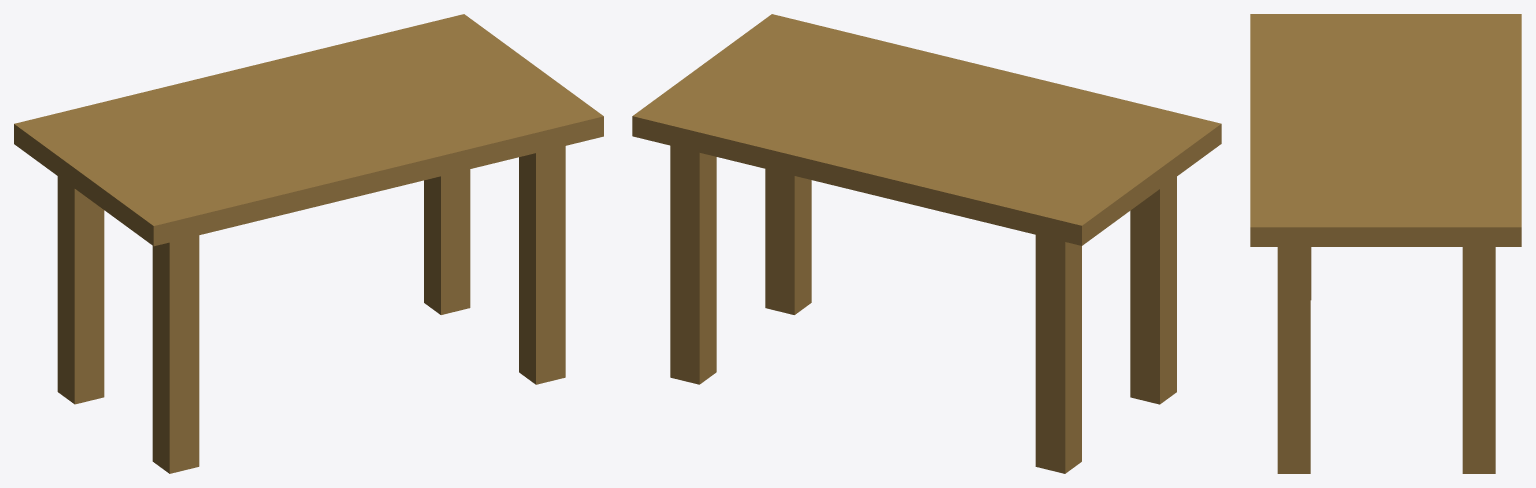
Rendered from stol.fbx.
3 views of the same model, side by side, from view 1: azimuth 30°, elevation 25°; view 2: azimuth 150°, elevation 25°; view 3: azimuth 270°, elevation 25° (orthographic). The views are drawn at different scales.
Visible parts, largest first — view 1: stol; view 2: stol; view 3: stol.
Part boxes in pixels (box(x1,y1,x2,y2)): stol: box(14, 14, 603, 473); stol: box(632, 14, 1221, 473); stol: box(1250, 14, 1521, 473).
Size of the model in its own units: 428 by 241 by 230.
